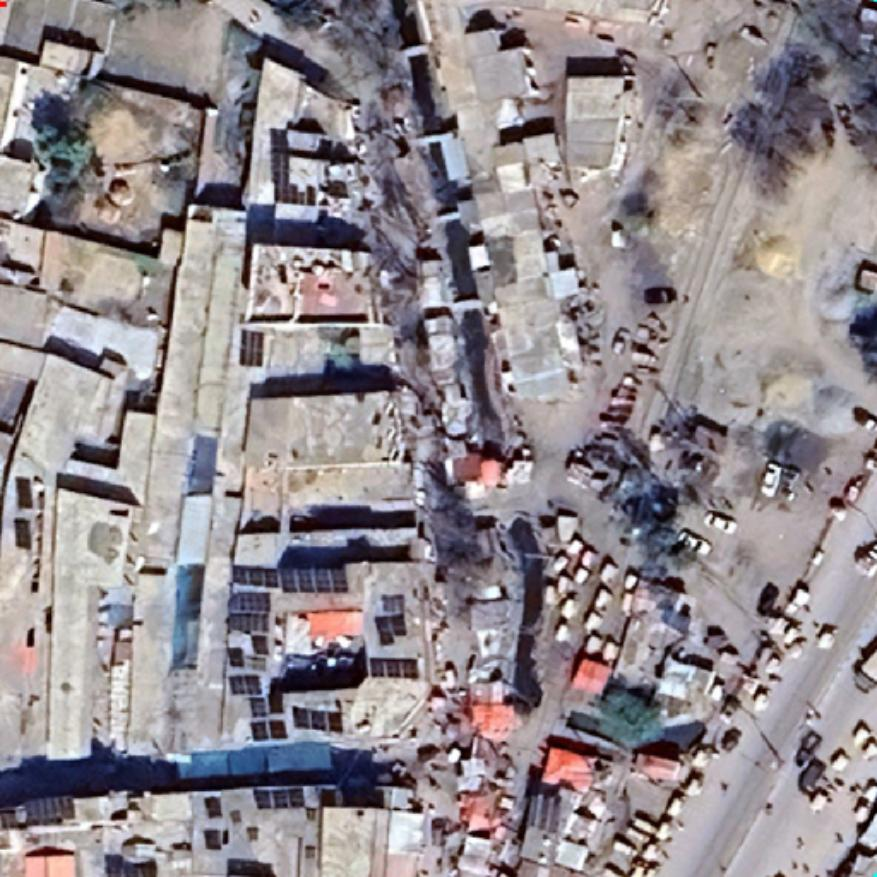Solarpanel: (226, 556, 354, 600), (269, 125, 321, 209), (222, 588, 276, 638), (368, 590, 414, 648), (286, 700, 350, 738), (17, 794, 80, 828), (363, 650, 425, 684), (248, 782, 312, 814), (235, 323, 270, 373), (242, 714, 292, 745), (224, 669, 268, 700)
